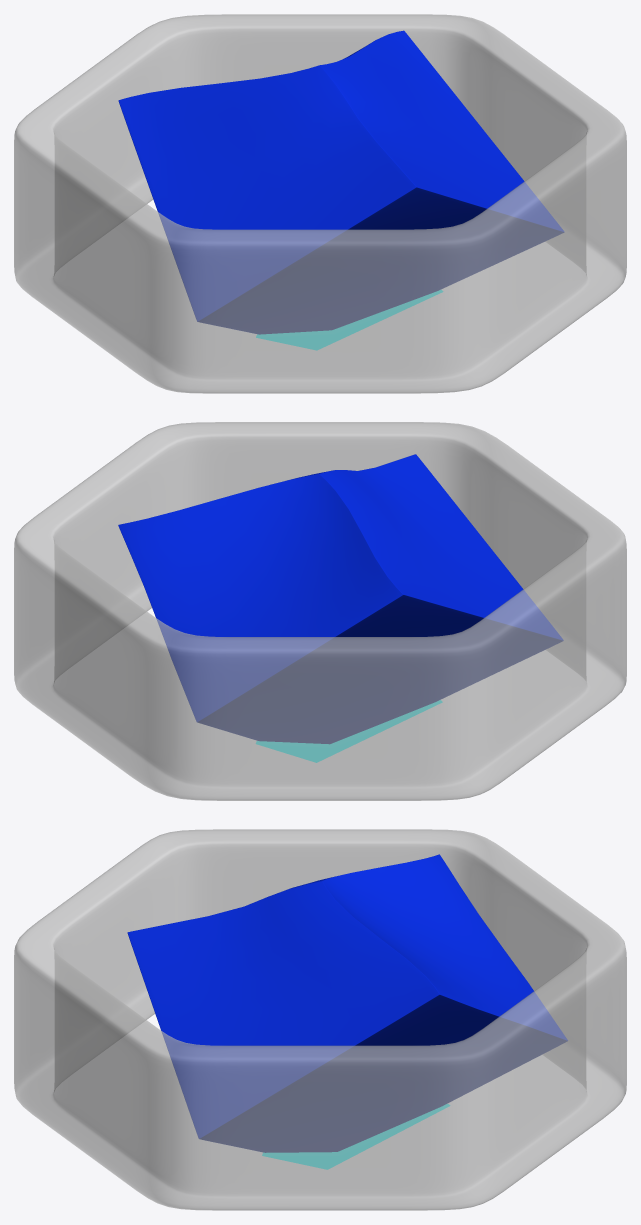
3 views of the same model, one above another, from view 1: azimuth 30°, elevation 25°; view 2: azimuth 150°, elevation 25°; view 3: azimuth 270°, elevation 25° (orthographic).
Parts seen in each view (by area): view 1: pCylinder1, pCube3, pCube2; view 2: pCylinder1, pCube3, pCube2; view 3: pCylinder1, pCube3, pCube2.
Part boxes in pixels (bbox=[...]): pCylinder1: bbox=[14, 14, 626, 393]; pCube3: bbox=[118, 30, 563, 334]; pCube2: bbox=[256, 290, 442, 350]; pCylinder1: bbox=[14, 422, 626, 800]; pCube3: bbox=[118, 454, 563, 743]; pCube2: bbox=[256, 700, 442, 762]; pCylinder1: bbox=[14, 829, 626, 1210]; pCube3: bbox=[127, 854, 567, 1152]; pCube2: bbox=[262, 1104, 449, 1169].
Bounding box in the file's own units: 0.0747 × 0.0433 × 0.0833.
